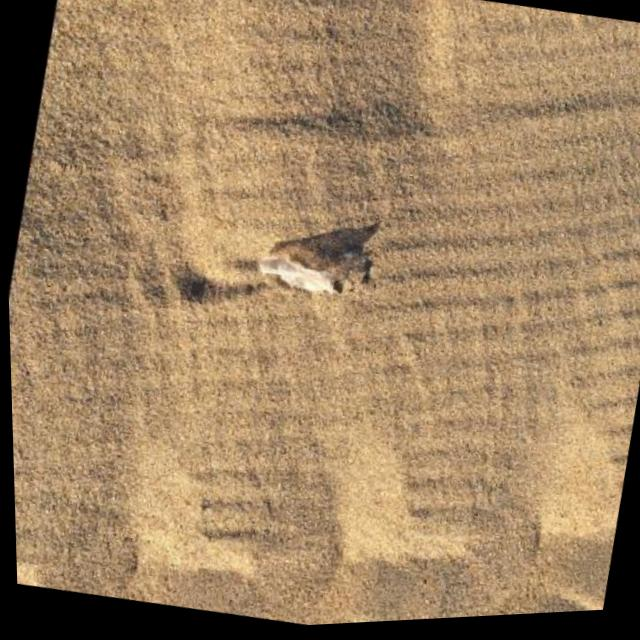other: (252, 231, 372, 305)
